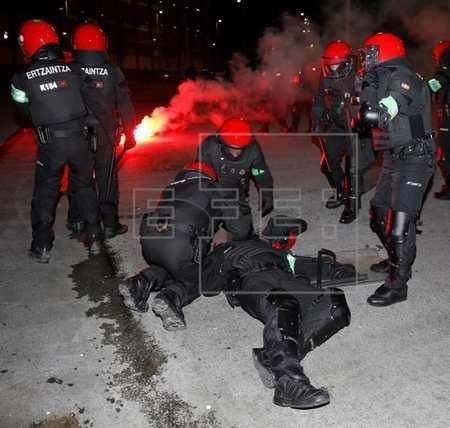falling: (200, 208, 351, 410)
